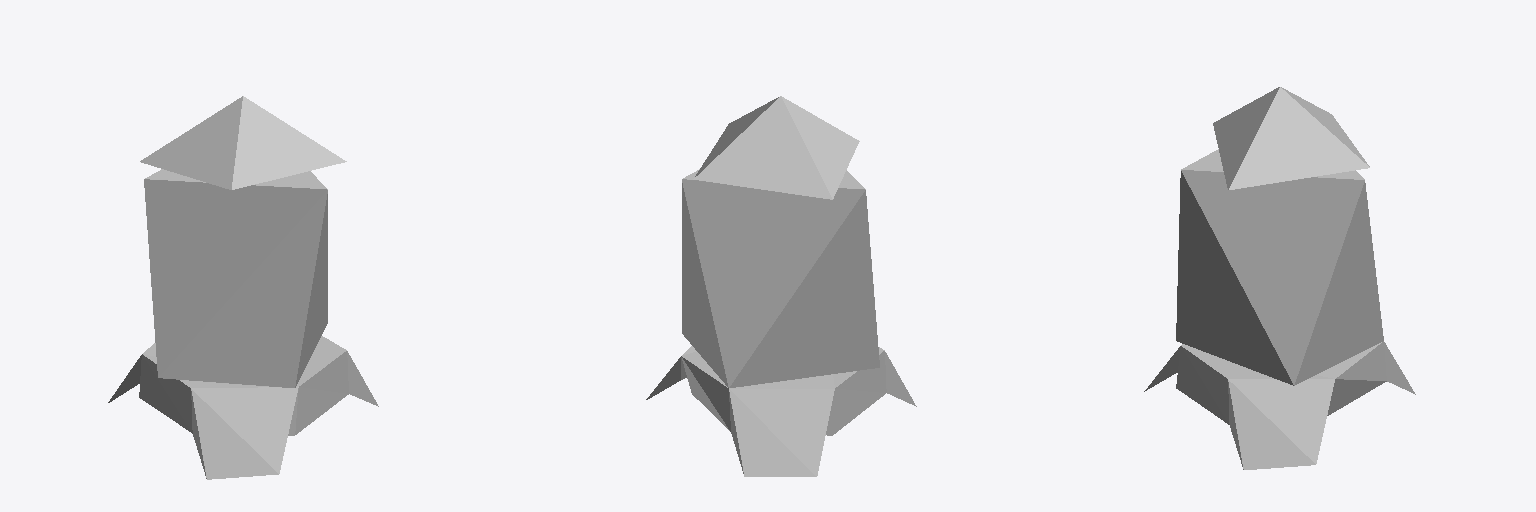
File: bonusrocket_LOD1.obj
The picture shows the model from 3 angles: view 1: azimuth 30°, elevation 25°; view 2: azimuth 150°, elevation 25°; view 3: azimuth 270°, elevation 25°; orthographic projection.
Visible parts, largest first — view 1: Corps.001_Cylinder.007, Nez.001_Cylinder.008, Queue.001_Cylinder.009; view 2: Corps.001_Cylinder.007, Nez.001_Cylinder.008, Queue.001_Cylinder.009; view 3: Corps.001_Cylinder.007, Nez.001_Cylinder.008, Queue.001_Cylinder.009.
Part boxes in pixels (x1,y1,x2,y2): Corps.001_Cylinder.007: (144,169,327,387); Nez.001_Cylinder.008: (108,336,378,479); Queue.001_Cylinder.009: (140,96,346,189); Corps.001_Cylinder.007: (682,169,879,387); Nez.001_Cylinder.008: (646,346,916,476); Queue.001_Cylinder.009: (693,96,859,199); Corps.001_Cylinder.007: (1176,149,1383,385); Nez.001_Cylinder.008: (1144,341,1415,469); Queue.001_Cylinder.009: (1213,87,1369,189).
Bounding box in the file's own units: 0.2285 × 0.3394 × 0.2563.